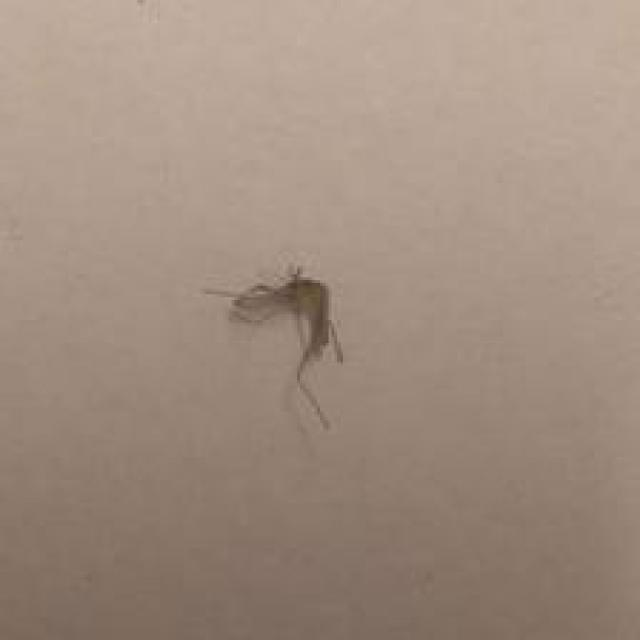Culex: (202, 263, 344, 431)
